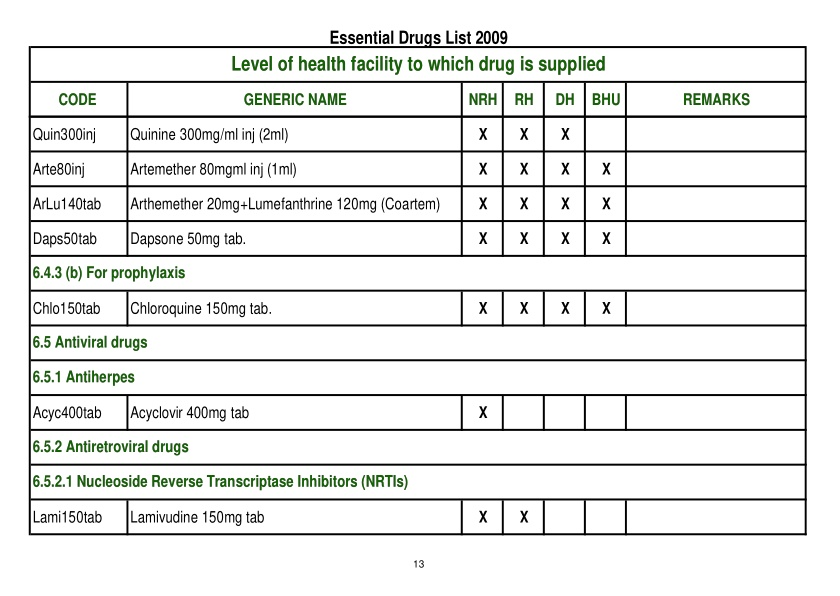merged_cells: (28, 46, 807, 535)
